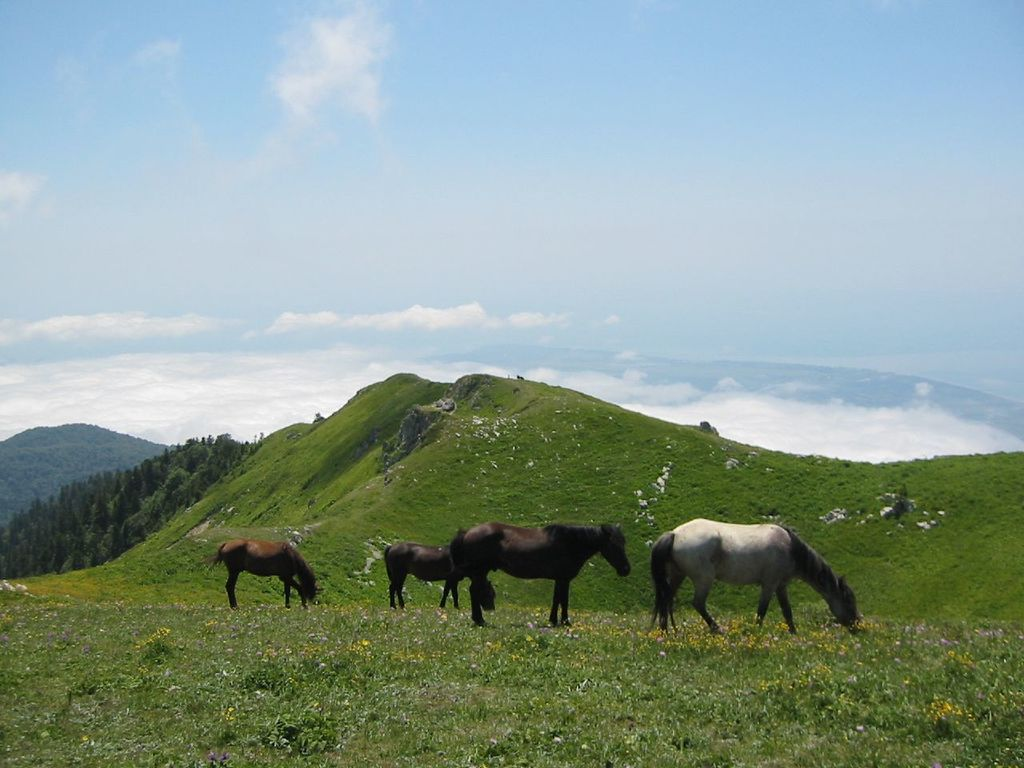horse: (652, 521, 866, 636), (446, 522, 635, 632), (208, 541, 327, 612)
